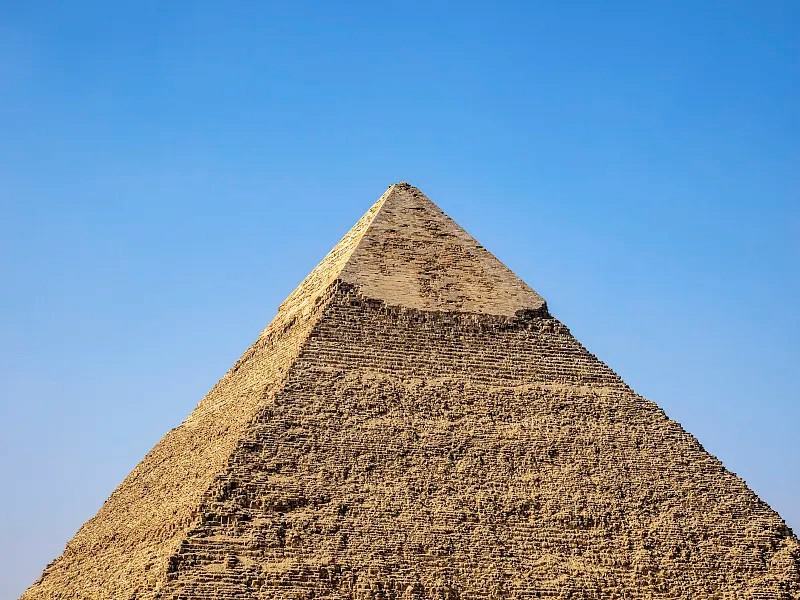Pyramid: (22, 182, 800, 600)
